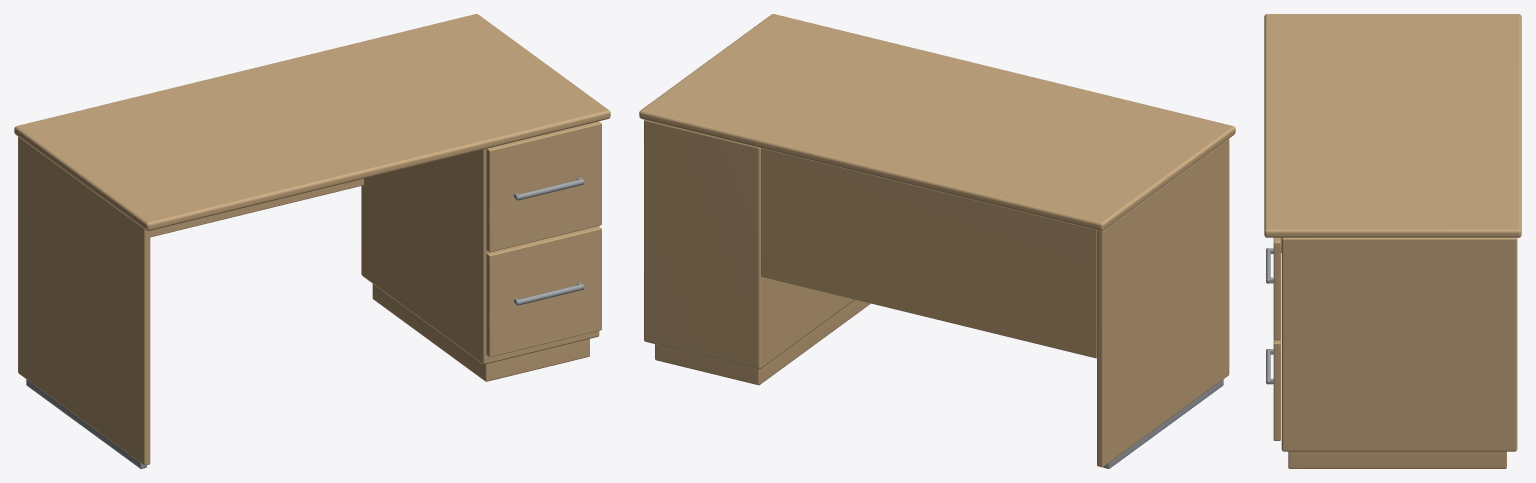
File: original-desk-work.glb
The picture shows the model from 3 angles, left to right: view 1: azimuth 30°, elevation 25°; view 2: azimuth 150°, elevation 25°; view 3: azimuth 270°, elevation 25°; orthographic projection. The views are drawn at different scales.
Parts seen in each view (by area): view 1: original-desk-work; view 2: original-desk-work; view 3: original-desk-work.
Part boxes in pixels (bbox=[...]): original-desk-work: bbox=[14, 14, 610, 468]; original-desk-work: bbox=[639, 14, 1235, 468]; original-desk-work: bbox=[1264, 14, 1521, 468].
Size of the model in its own units: 1.4 by 0.73 by 0.7.
